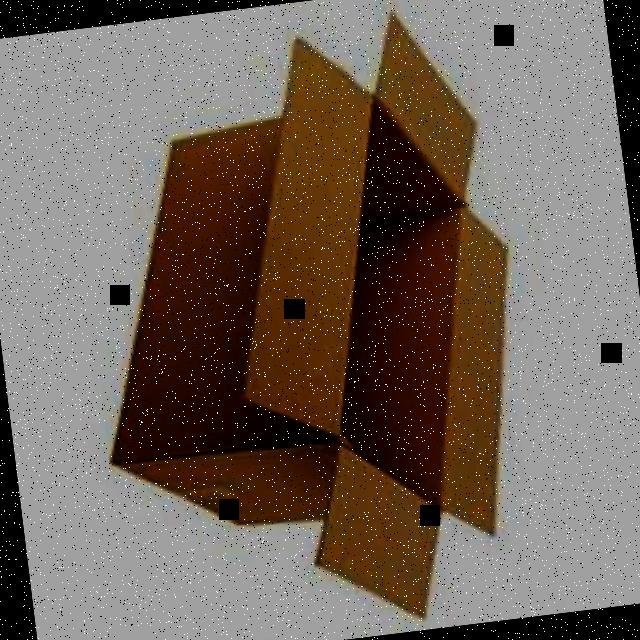cardboard_box: (62, 0, 567, 640)
